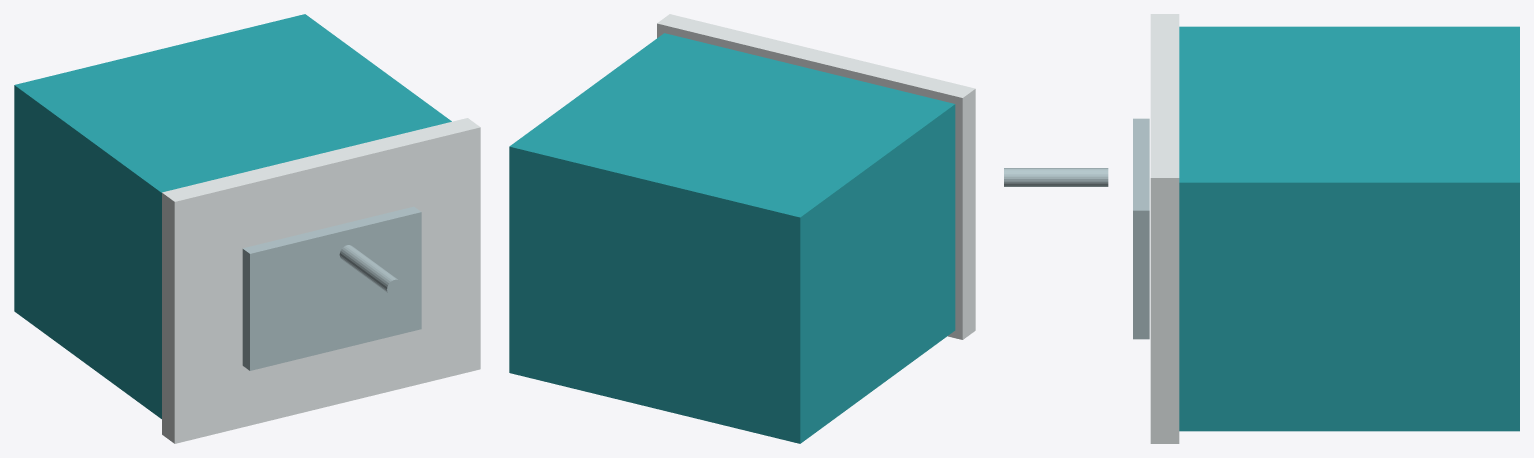
File: plumbing-manifold-utility-sink.glb
3 views of the same model, side by side, from view 1: azimuth 30°, elevation 25°; view 2: azimuth 150°, elevation 25°; view 3: azimuth 270°, elevation 25° (orthographic). The views are drawn at different scales.
Parts seen in each view (by area): view 1: world; view 2: world; view 3: world.
Boxes of the visible parts, x1,y1,x2,y2 form: world: (14, 14, 480, 443); world: (509, 14, 975, 443); world: (1004, 14, 1519, 443).
Size of the model in its own units: 0.82 by 0.62 by 1.09.
